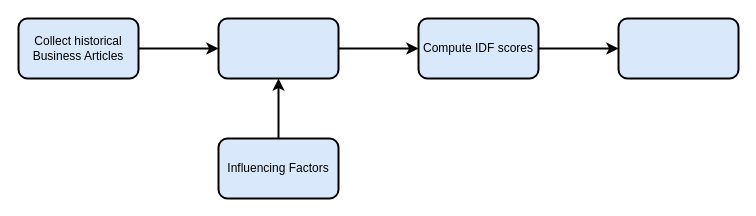
The diagram is 756 pixels wide and 216 high, and some of its shapes have lost their labels. Each missing label, with the centre of its shape:
"Create Lexicon" goes at [278,48].
"Store as a dictionary" goes at [678,48].
